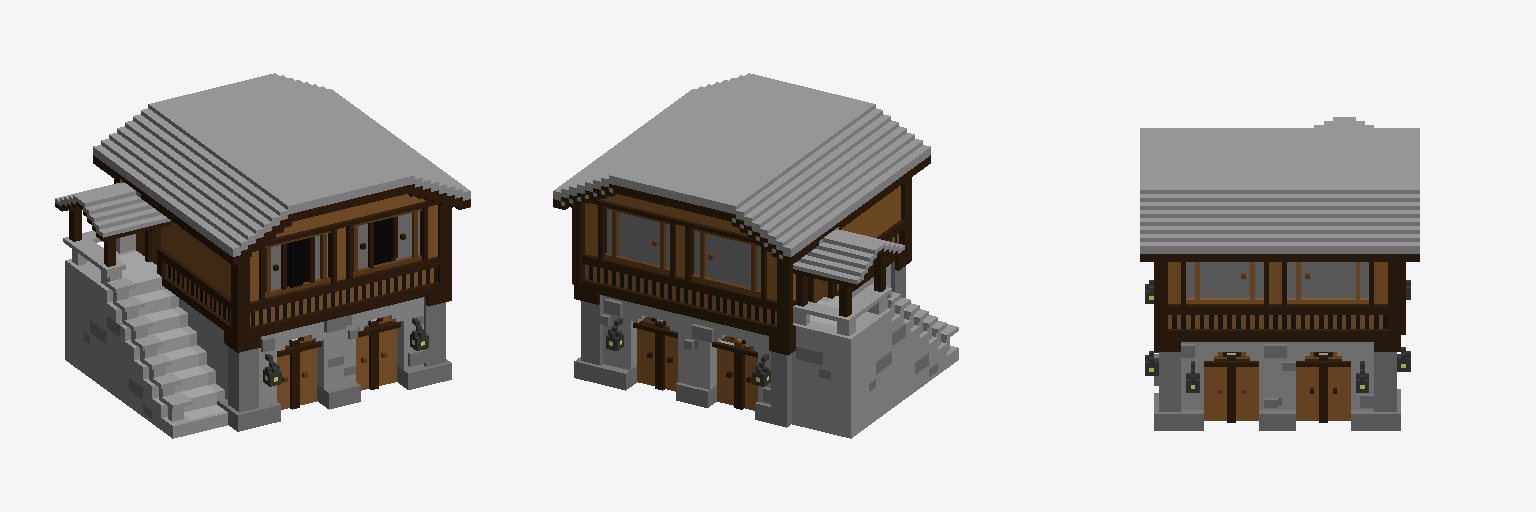
3 views of the same model, side by side, from view 1: azimuth 30°, elevation 25°; view 2: azimuth 150°, elevation 25°; view 3: azimuth 270°, elevation 25° (orthographic).
Parts seen in each view (by area): view 1: object 1; view 2: object 1; view 3: object 1.
Part boxes in pixels (left/top/right/bottom): object 1: left=55, top=73, right=470, bottom=438; object 1: left=553, top=73, right=958, bottom=438; object 1: left=1140, top=117, right=1419, bottom=430.
Size of the model in its own units: 7.3 by 5.3 by 6.1.
1 materials, 1 textured.